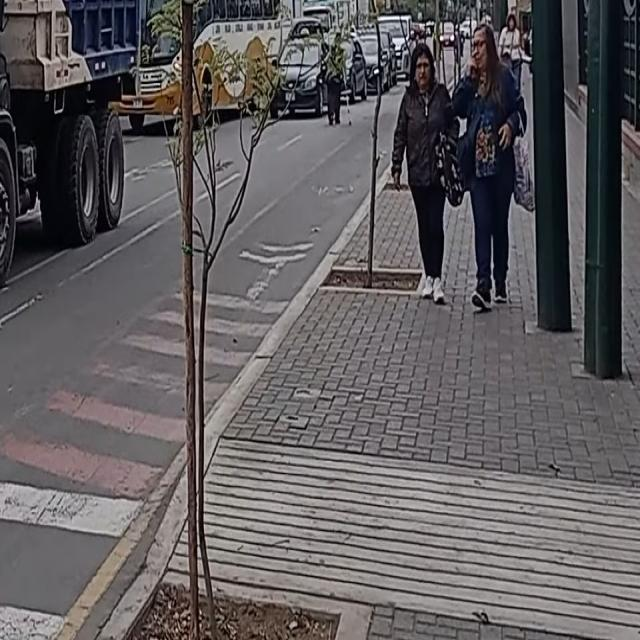bus: (115, 0, 285, 134)
car: (268, 31, 331, 121), (327, 32, 368, 100)
truck: (0, 0, 141, 291)
